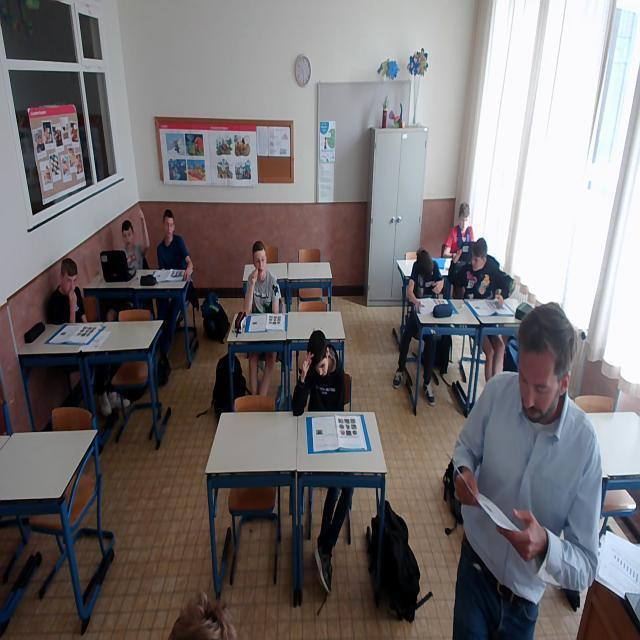Looking away: (470, 238, 487, 276), (460, 205, 470, 232)
Looking forward: (62, 258, 78, 296), (254, 238, 267, 277), (164, 208, 176, 240)
Raising hand: (117, 208, 161, 286)
Reading-writing: (442, 302, 605, 540), (294, 329, 371, 452), (406, 249, 458, 319)
